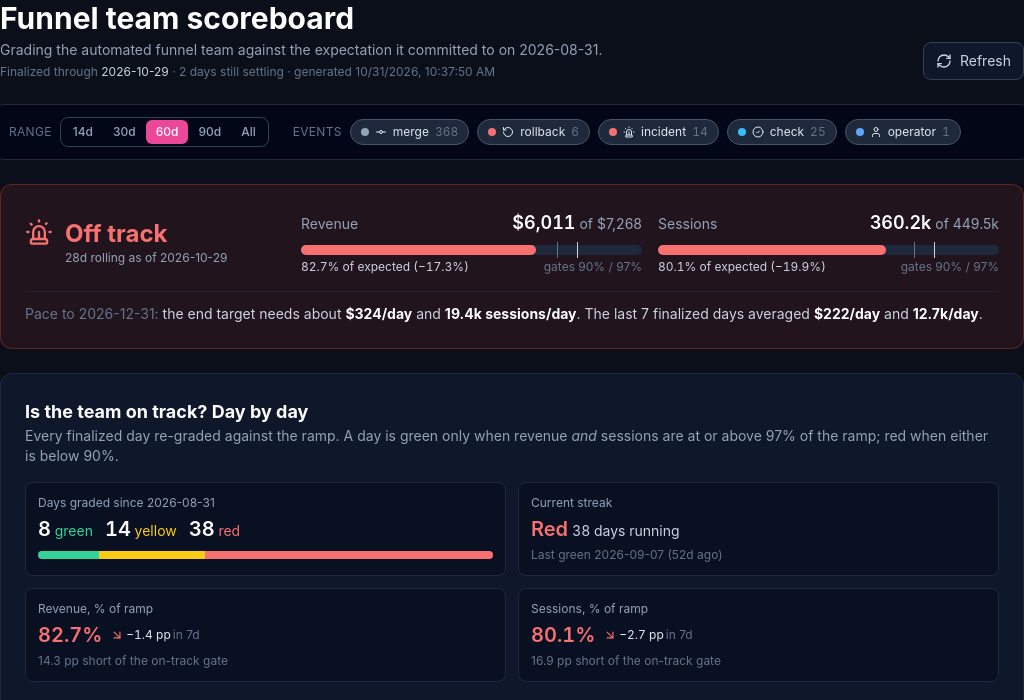
Scenario: /admin/funnel thresholds and range wiring › the range buttons change the revenue tile
The image size is (1024, 700).
Check: the heading "Funnel team scoreboard" is shown, box x1=0 y1=0 x2=354 y2=36
Click the button "14d" at (83,132), box x1=63 y1=120 x2=103 y2=144
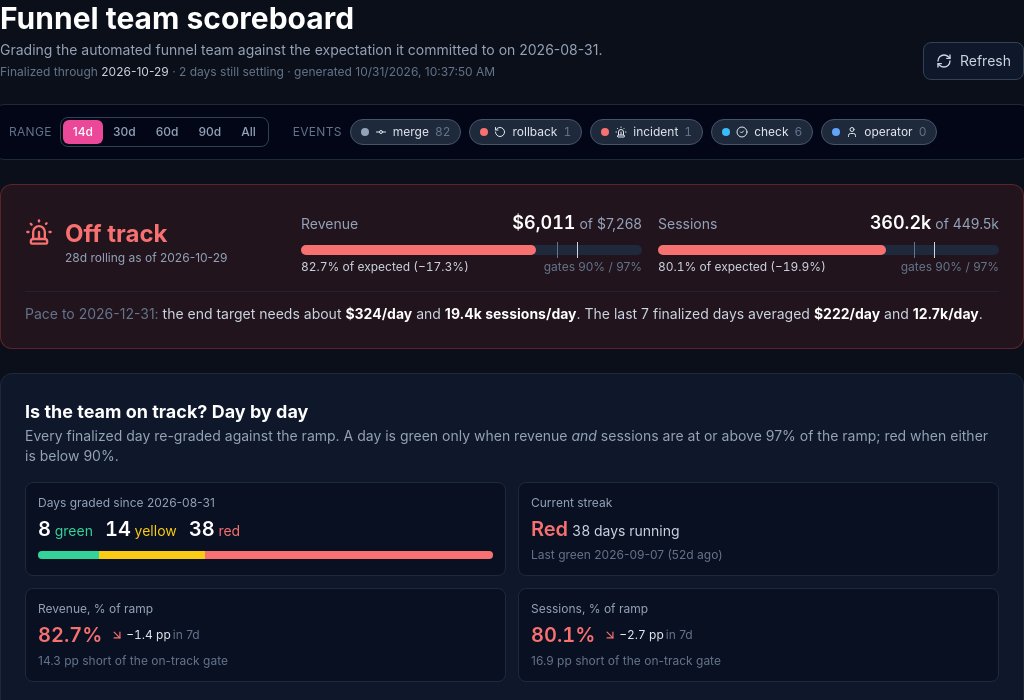
Click the button "30d" at (124,132), box x1=103 y1=120 x2=146 y2=144
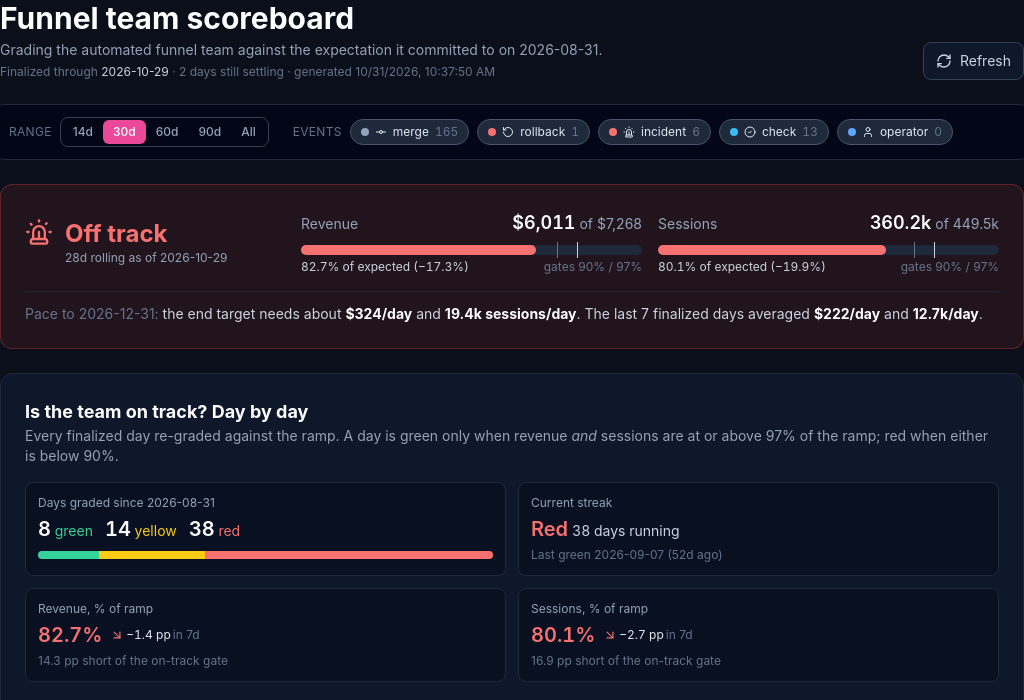
Click the button "All" at (248,132), box x1=231 y1=120 x2=266 y2=144
(page scrolled)
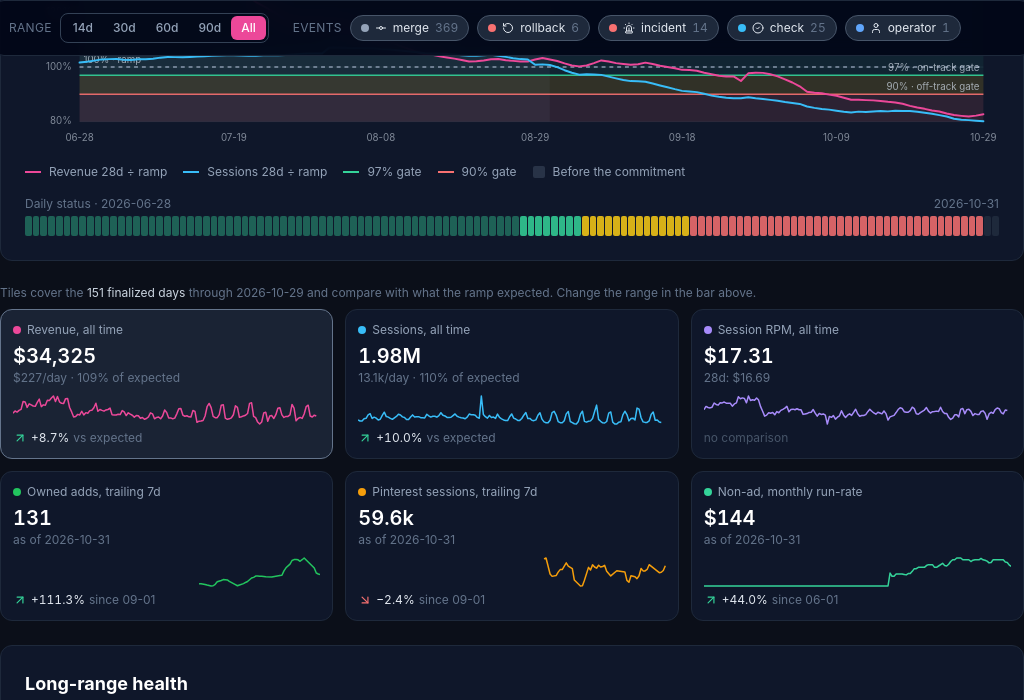
Check: the button that starts with "Revenue, all time" reads "Revenue, all time $34,325 $227/day · 109% of expected +8.7% vs expected", box x1=0 y1=309 x2=333 y2=459
